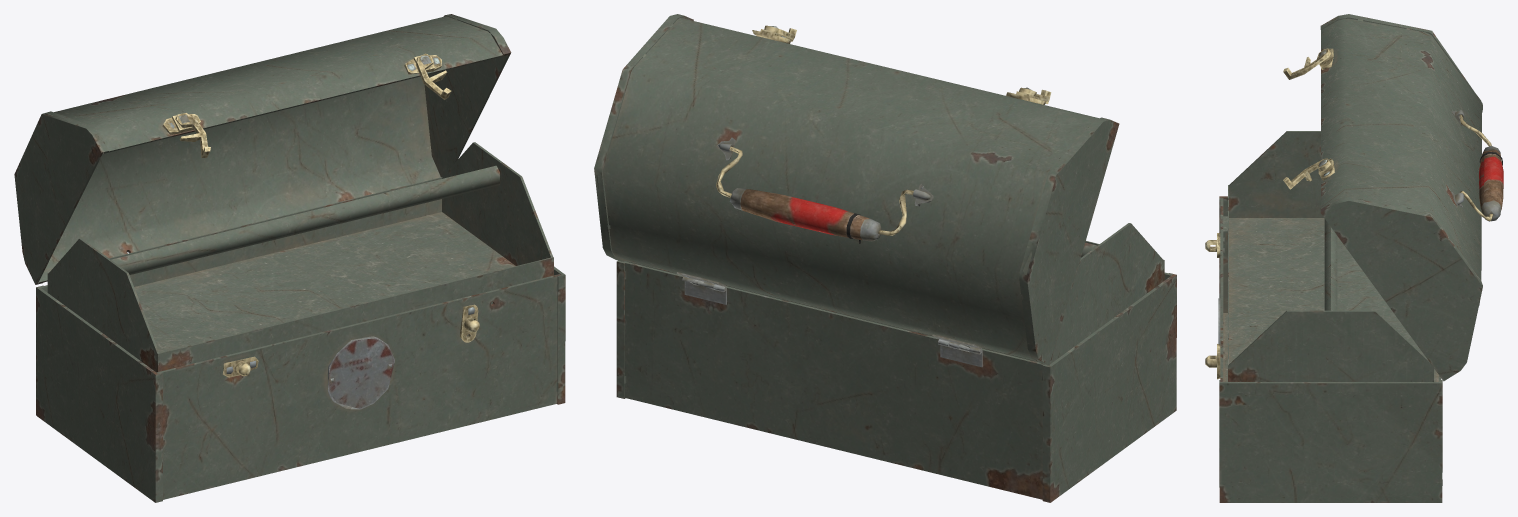
File: metal_toolbox.glb
3 views of the same model, side by side, from view 1: azimuth 30°, elevation 25°; view 2: azimuth 150°, elevation 25°; view 3: azimuth 270°, elevation 25° (orthographic). The views are drawn at different scales.
Visible parts, largest first — view 1: metal_toolbox; view 2: metal_toolbox; view 3: metal_toolbox.
Boxes of the visible parts, x1,y1,x2,y2 form: metal_toolbox: (14, 14, 565, 502); metal_toolbox: (594, 14, 1176, 502); metal_toolbox: (1205, 14, 1503, 502).
Size of the model in its own units: 0.4 by 0.3044 by 0.2702.
Materials: 1 (1 with a texture image).
